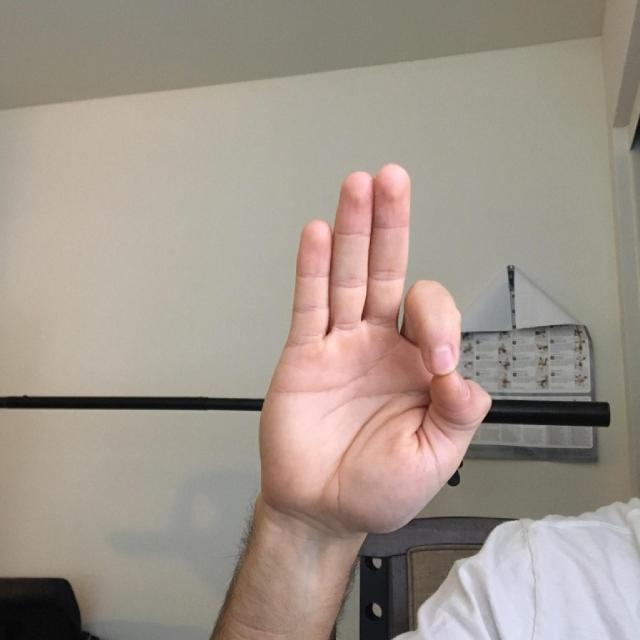F: (218, 130, 592, 603)
